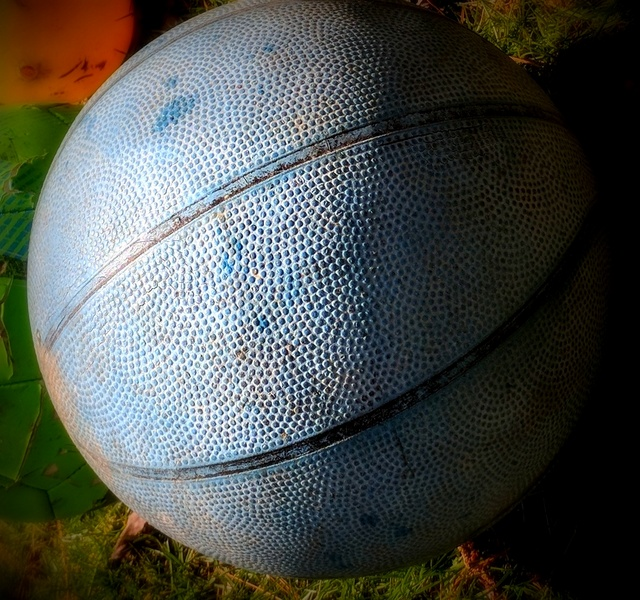ball: (23, 1, 604, 582)
